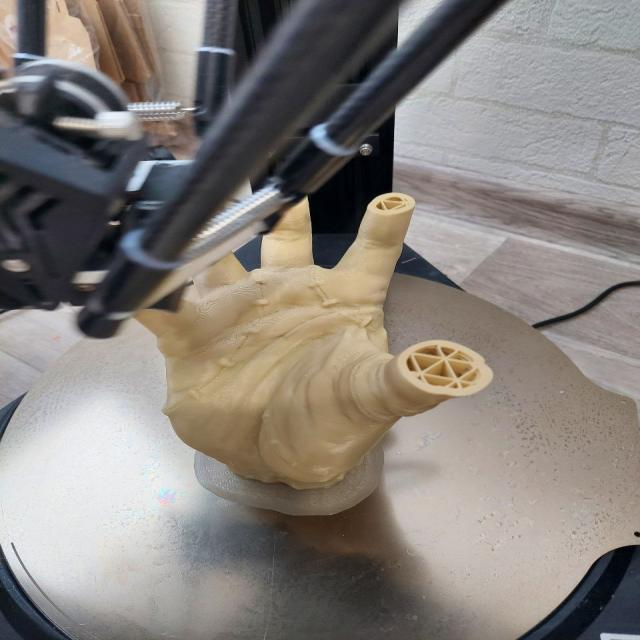Without deffect: (114, 174, 537, 532)
